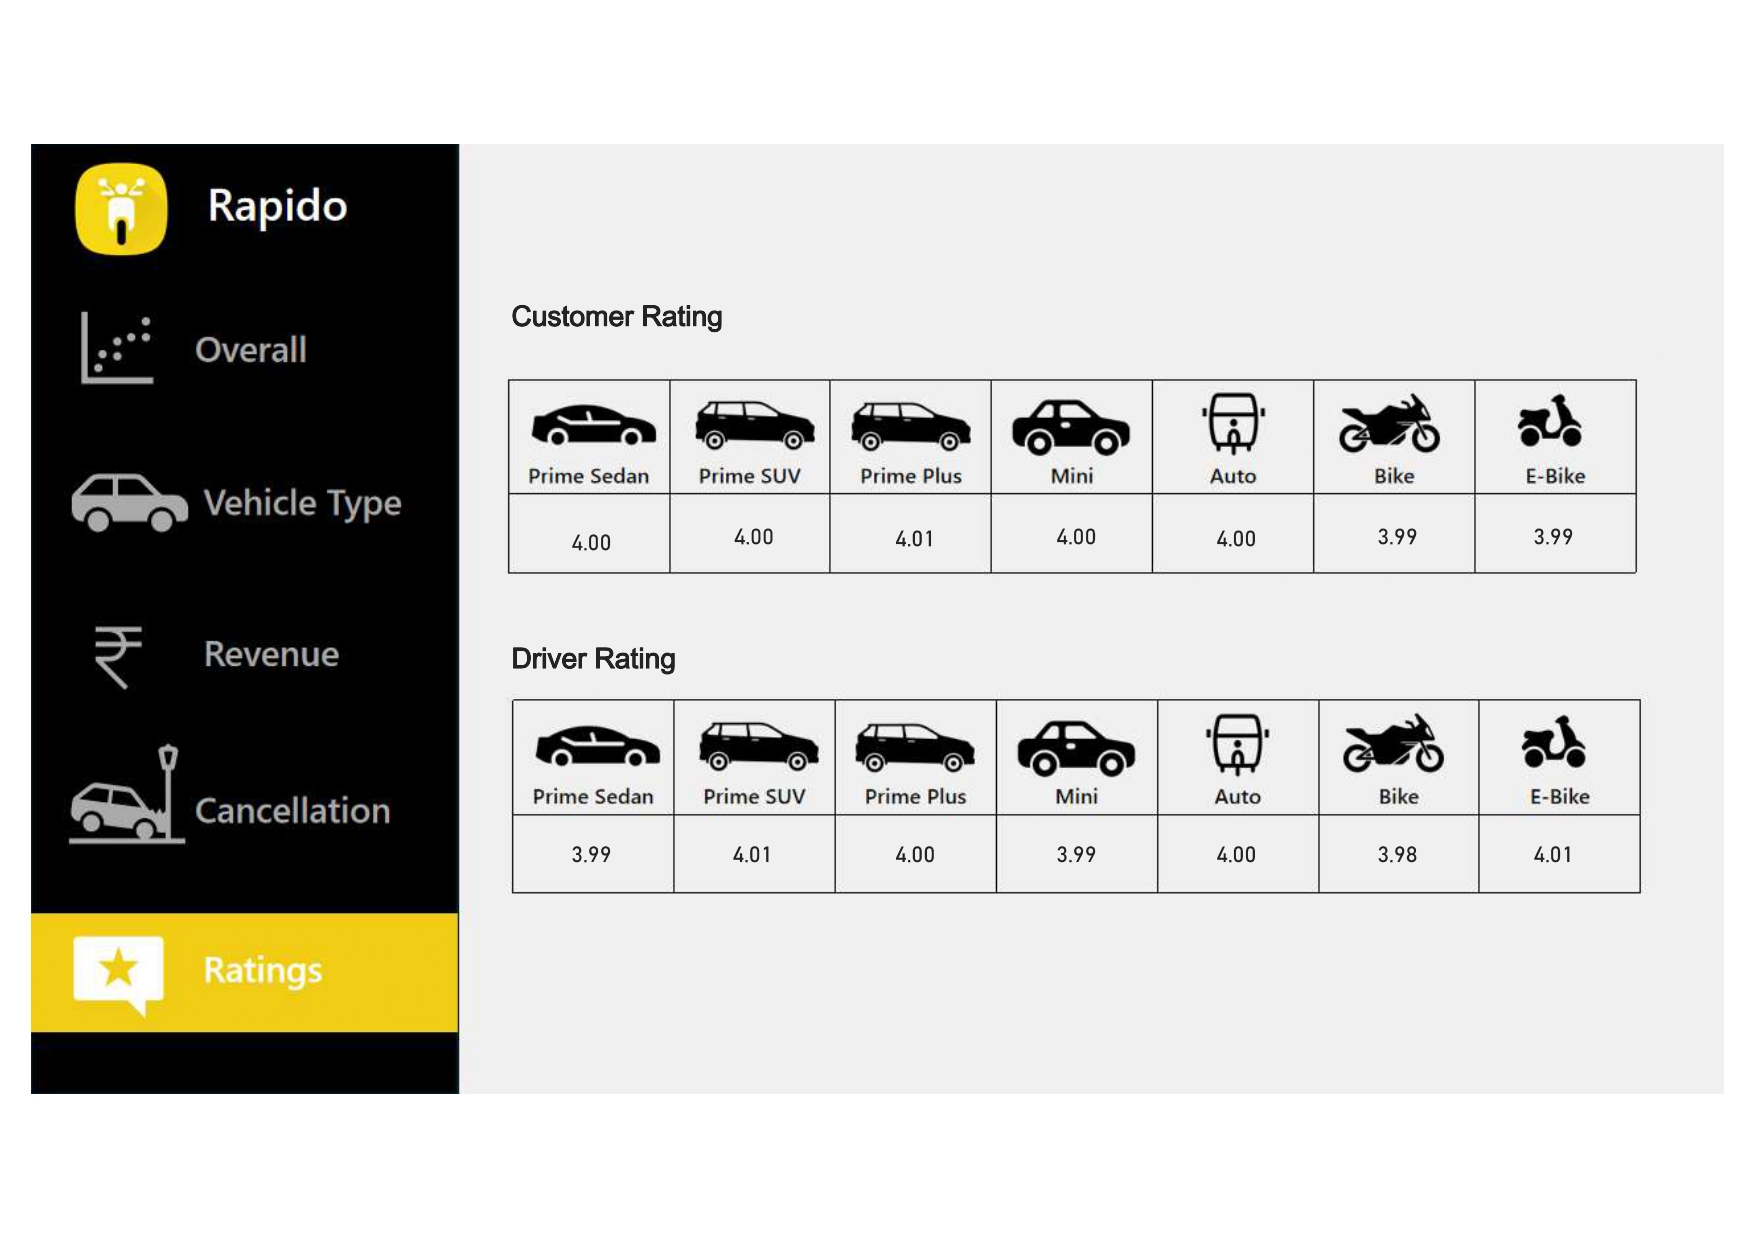

The dashboard page shown, as its layout file describes it:
{"tool":"powerbi","page":{"name":"Ratings","canvas":[1280,720],"ordinal":4},"visuals":[{"type":"card","fields":{"Values":["Avg(July.Customer_Rating)"]},"box":[372,279.3,103.1,44.3],"z":0},{"type":"card","fields":{"Values":["Avg(July.Customer_Rating)"]},"box":[494.7,275.2,103.1,44.3],"z":1000},{"type":"card","fields":{"Values":["Avg(July.Customer_Rating)"]},"box":[617.3,276.2,103.1,44.3],"z":2000},{"type":"card","fields":{"Values":["Avg(July.Customer_Rating)"]},"box":[738.9,275.2,103.1,44.3],"z":3000},{"type":"card","fields":{"Values":["Avg(July.Customer_Rating)"]},"box":[859.5,276.2,103.1,44.3],"z":4000},{"type":"card","fields":{"Values":["Avg(July.Customer_Rating)"]},"box":[982.2,275.2,103.1,44.3],"z":5000},{"type":"card","fields":{"Values":["Avg(July.Customer_Rating)"]},"box":[1099.6,275.2,103.1,44.3],"z":6000},{"type":"card","fields":{"Values":["Avg(July.Driver_Ratings)"]},"box":[372,515.3,103.1,44.3],"z":7000},{"type":"textbox","box":[357.6,109.2,271,58.7],"z":8000},{"type":"textbox","box":[357.6,359.7,198.9,47.4],"z":9000},{"type":"card","fields":{"Values":["Avg(July.Driver_Ratings)"]},"box":[493.7,515.3,103.1,44.3],"z":10000},{"type":"card","fields":{"Values":["Avg(July.Driver_Ratings)"]},"box":[617.3,515.3,103.1,44.3],"z":11000},{"type":"card","fields":{"Values":["Avg(July.Driver_Ratings)"]},"box":[738.9,515.3,103.1,44.3],"z":12000},{"type":"card","fields":{"Values":["Avg(July.Driver_Ratings)"]},"box":[859.5,515.3,103.1,44.3],"z":13000},{"type":"card","fields":{"Values":["Avg(July.Driver_Ratings)"]},"box":[982.2,515.3,103.1,44.3],"z":14000},{"type":"card","fields":{"Values":["Avg(July.Driver_Ratings)"]},"box":[1099.6,515.3,103.1,44.3],"z":15000},{"type":"actionButton","box":[0,582.3,324.6,91.7],"z":16000},{"type":"actionButton","box":[0,351.4,324.6,73.2],"z":17000},{"type":"actionButton","box":[0,442.1,324.6,95.8],"z":18000},{"type":"actionButton","box":[0,225.7,324.6,76.3],"z":19000},{"type":"actionButton","box":[0,118.5,324.6,78.3],"z":20000}]}

Visuals, with their boxes in screenshot pixels (x1, y1, x2, y2):
card - Avg(July.Customer_Rating): (513,387,647,445)
card - Avg(July.Customer_Rating): (673,382,807,440)
card - Avg(July.Customer_Rating): (833,383,967,441)
card - Avg(July.Customer_Rating): (991,382,1126,440)
card - Avg(July.Customer_Rating): (1148,383,1283,441)
card - Avg(July.Customer_Rating): (1308,382,1443,440)
card - Avg(July.Customer_Rating): (1462,382,1596,440)
card - Avg(July.Driver_Ratings): (513,695,647,753)
textbox: (494,165,847,242)
textbox: (494,492,753,554)
card - Avg(July.Driver_Ratings): (671,695,806,753)
card - Avg(July.Driver_Ratings): (833,695,967,753)
card - Avg(July.Driver_Ratings): (991,695,1126,753)
card - Avg(July.Driver_Ratings): (1148,695,1283,753)
card - Avg(July.Driver_Ratings): (1308,695,1443,753)
card - Avg(July.Driver_Ratings): (1462,695,1596,753)
actionButton: (27,782,451,902)
actionButton: (27,481,451,577)
actionButton: (27,599,451,724)
actionButton: (27,317,451,417)
actionButton: (27,177,451,280)
